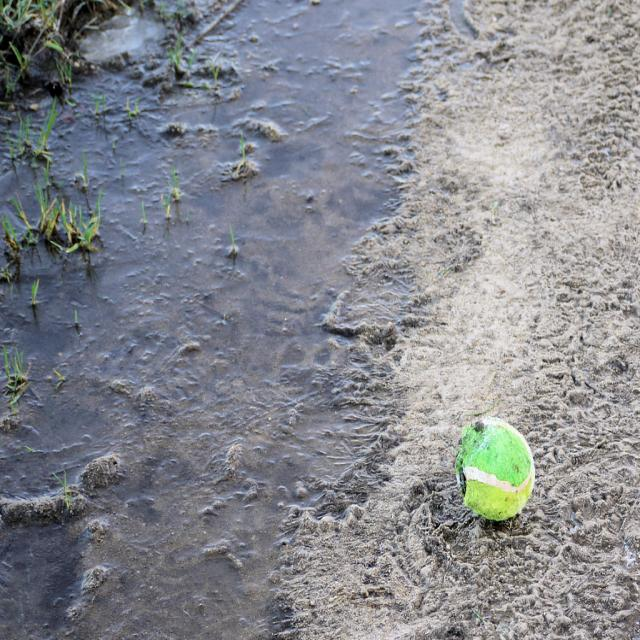Tennis ball: (461, 414, 538, 529)
